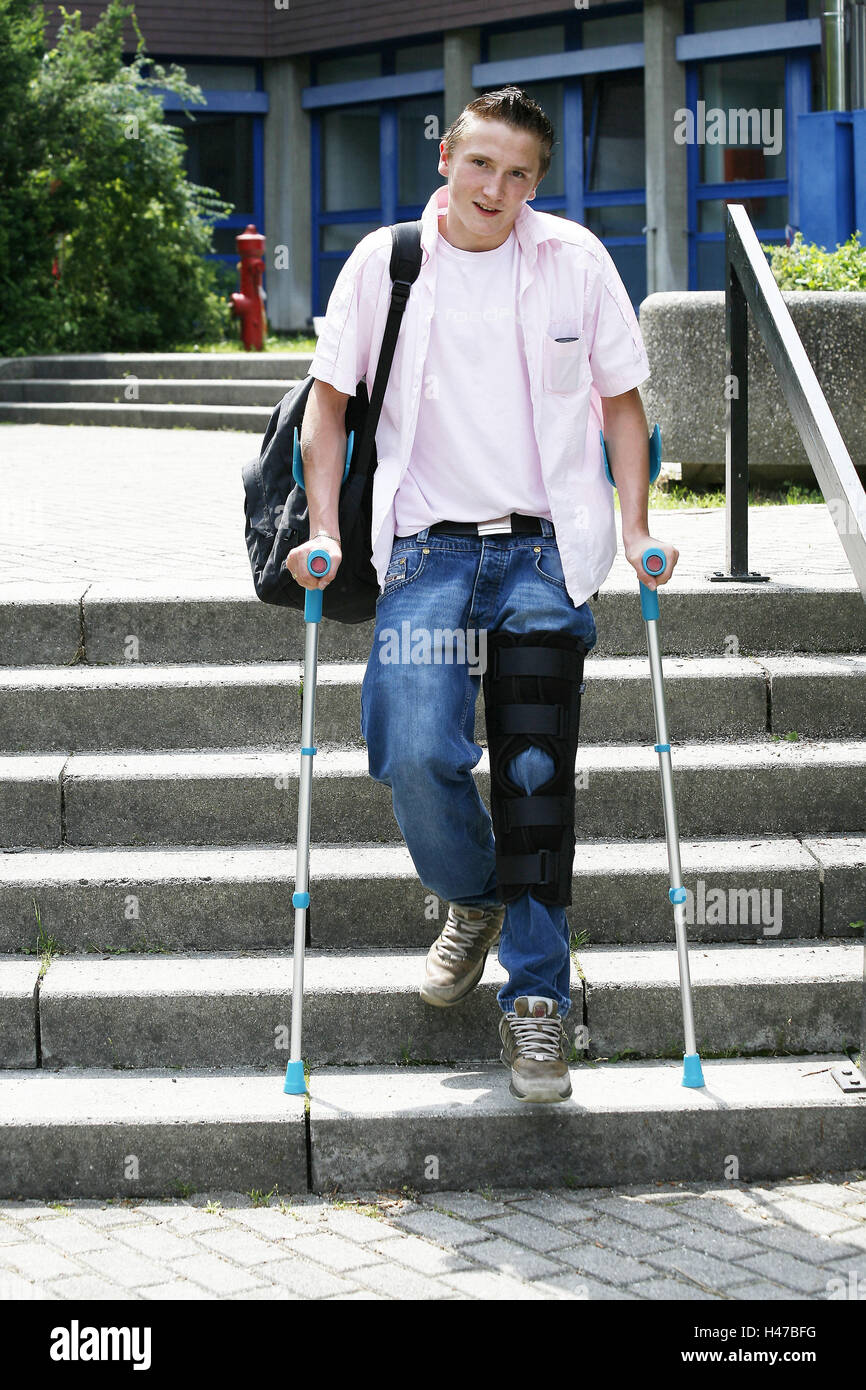crutches: (241, 81, 707, 1100)
